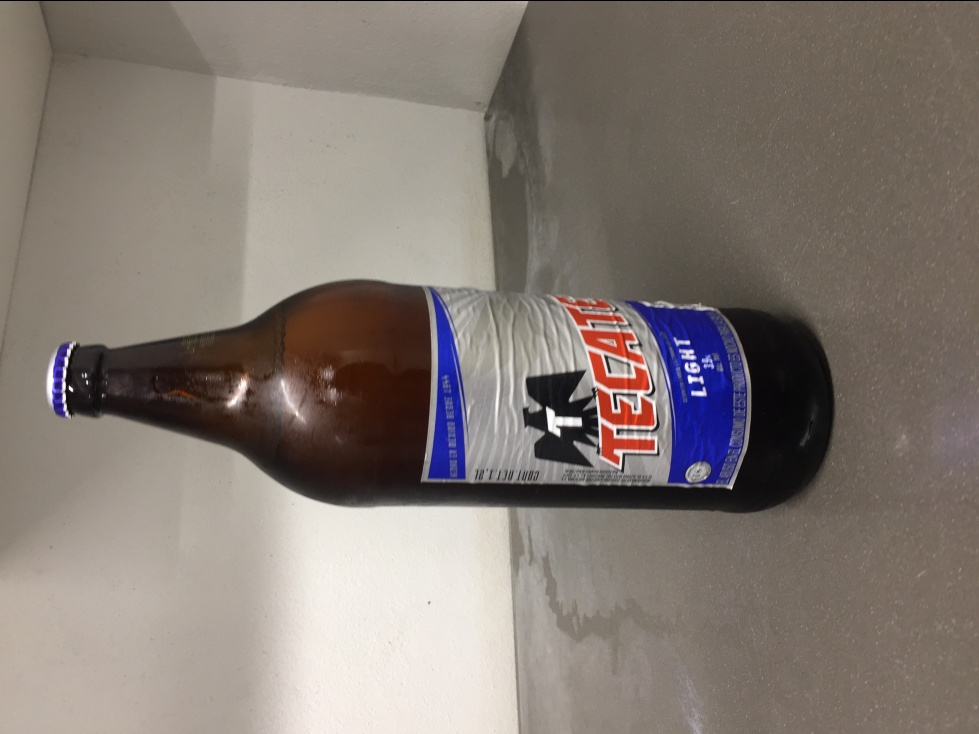tecateC: (45, 273, 835, 508)
